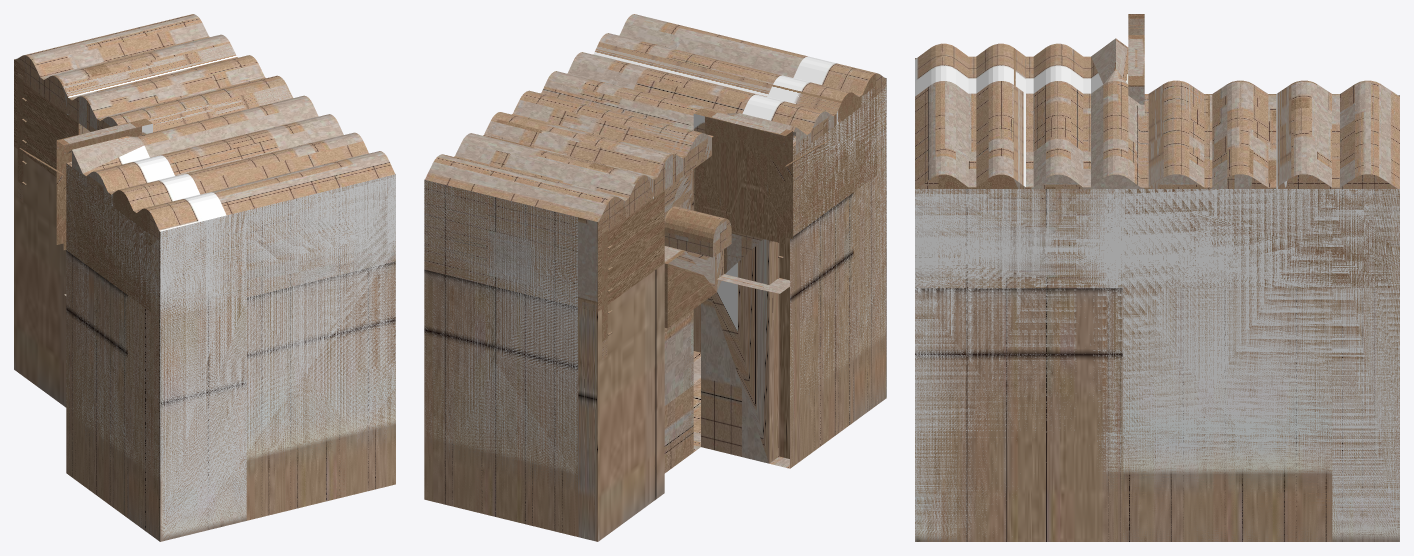
File: prison.glb
3 renders of one model, left to right at view 1: azimuth 30°, elevation 25°; view 2: azimuth 150°, elevation 25°; view 3: azimuth 270°, elevation 25°, orthographic. The views are drawn at different scales.
Visible parts, largest first — view 1: pris5; view 2: pris5; view 3: pris5.
Boxes of the visible parts, x1=… form: pris5: x1=14, y1=14, x2=395, y2=541; pris5: x1=424, y1=14, x2=886, y2=541; pris5: x1=915, y1=14, x2=1399, y2=541.
Bounding box in the file's own units: 85.07 × 97.31 × 114.
17 materials, 16 textured.
